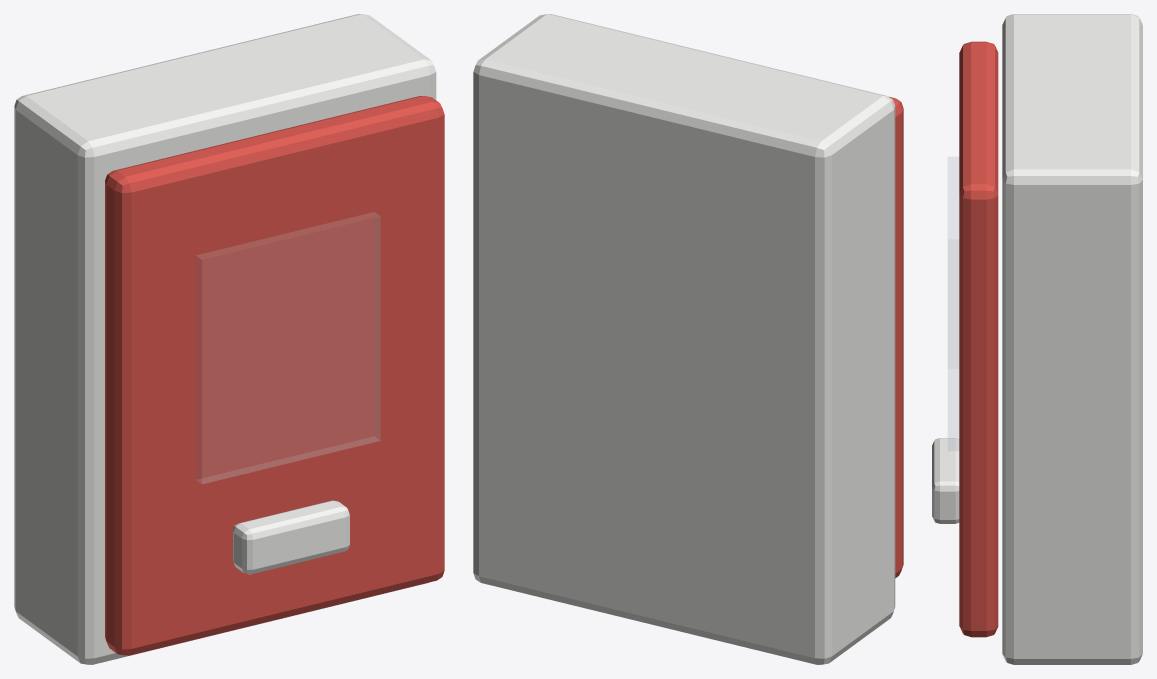
Rendered from fire-mcp.glb.
3 renders of one model, left to right at view 1: azimuth 30°, elevation 25°; view 2: azimuth 150°, elevation 25°; view 3: azimuth 270°, elevation 25°, orthographic. The views are drawn at different scales.
Visible parts, largest first — view 1: Face.001, Backbox, Window.001, Hammer; view 2: Backbox, Face.001; view 3: Backbox, Face.001, Window.001, Hammer.
Boxes of the visible parts, x1=… form: Face.001: x1=105, y1=96, x2=444, y2=655; Backbox: x1=14, y1=14, x2=436, y2=664; Window.001: x1=196, y1=212, x2=380, y2=483; Hammer: x1=233, y1=500, x2=349, y2=574; Backbox: x1=473, y1=14, x2=895, y2=664; Face.001: x1=889, y1=96, x2=903, y2=578; Backbox: x1=1002, y1=14, x2=1142, y2=664; Face.001: x1=959, y1=41, x2=998, y2=637; Window.001: x1=948, y1=157, x2=958, y2=450; Hammer: x1=932, y1=438, x2=959, y2=523.
Size of the model in its own units: 0.1 by 0.14 by 0.054.
